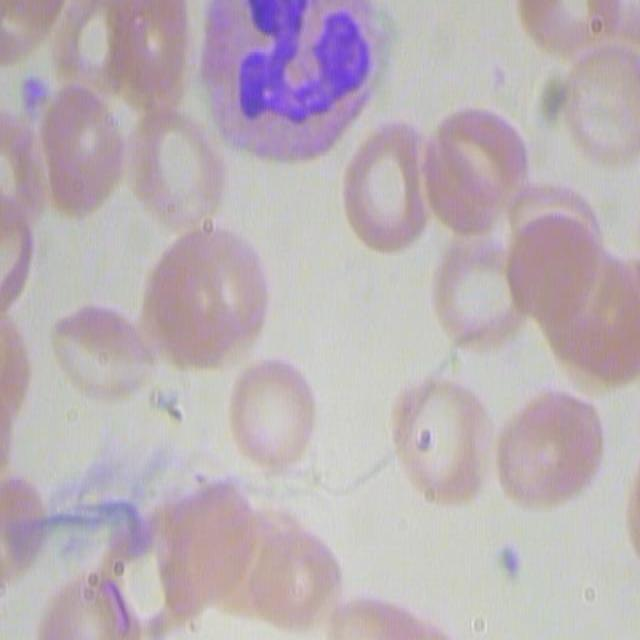RBC: (507, 172, 638, 394), (413, 96, 526, 342), (186, 478, 348, 634), (141, 216, 273, 376), (101, 478, 208, 638), (485, 381, 605, 510), (385, 368, 495, 506), (343, 98, 436, 260), (426, 232, 536, 362), (120, 97, 228, 228), (21, 80, 126, 214), (546, 36, 640, 172), (224, 353, 320, 482), (54, 306, 162, 412), (44, 1, 130, 98), (0, 193, 59, 321), (315, 581, 438, 640), (3, 467, 51, 592)
WBC: (194, 0, 411, 156)
platelets: (496, 541, 526, 587)
